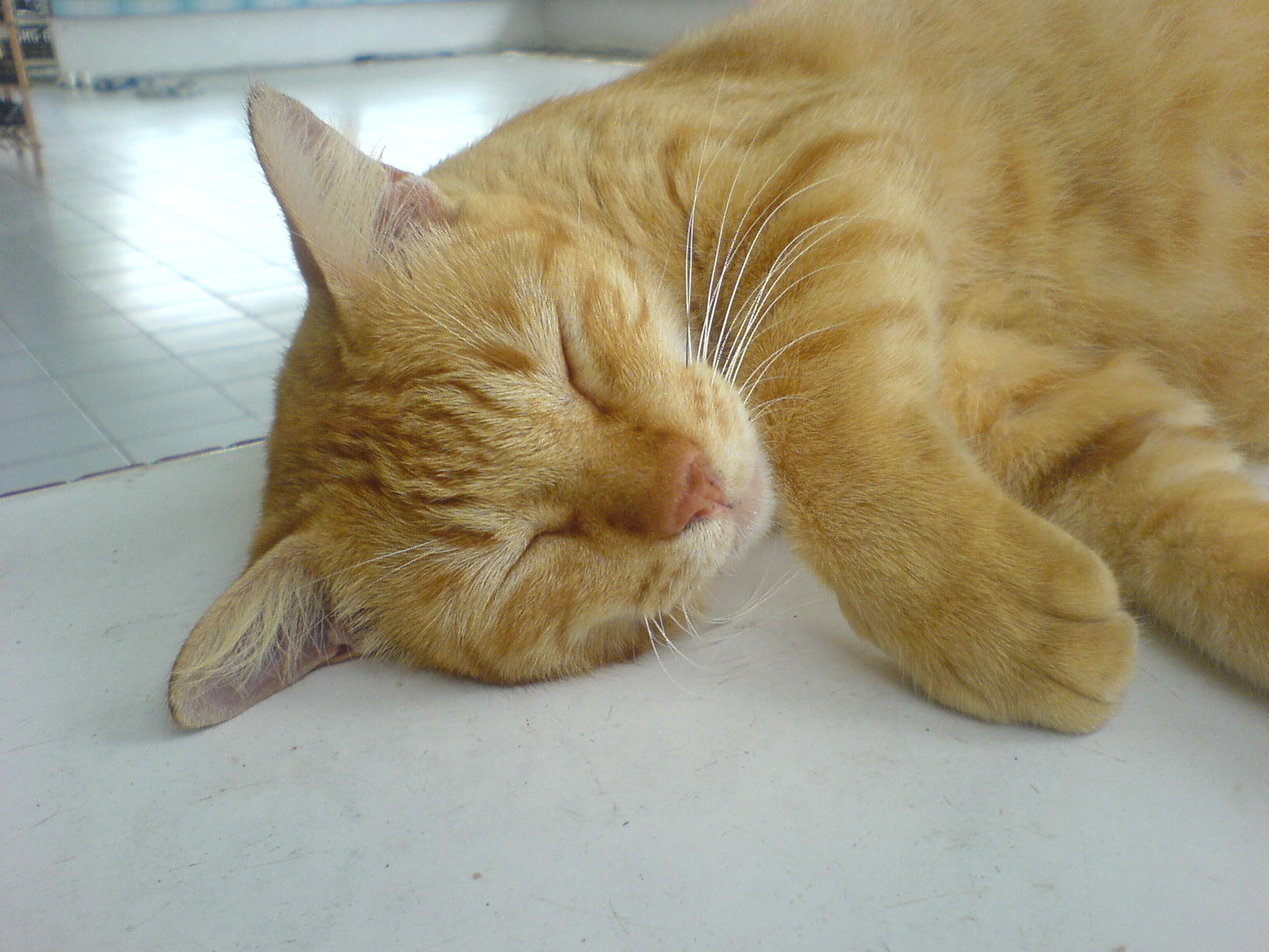cat: (152, 3, 1268, 738)
